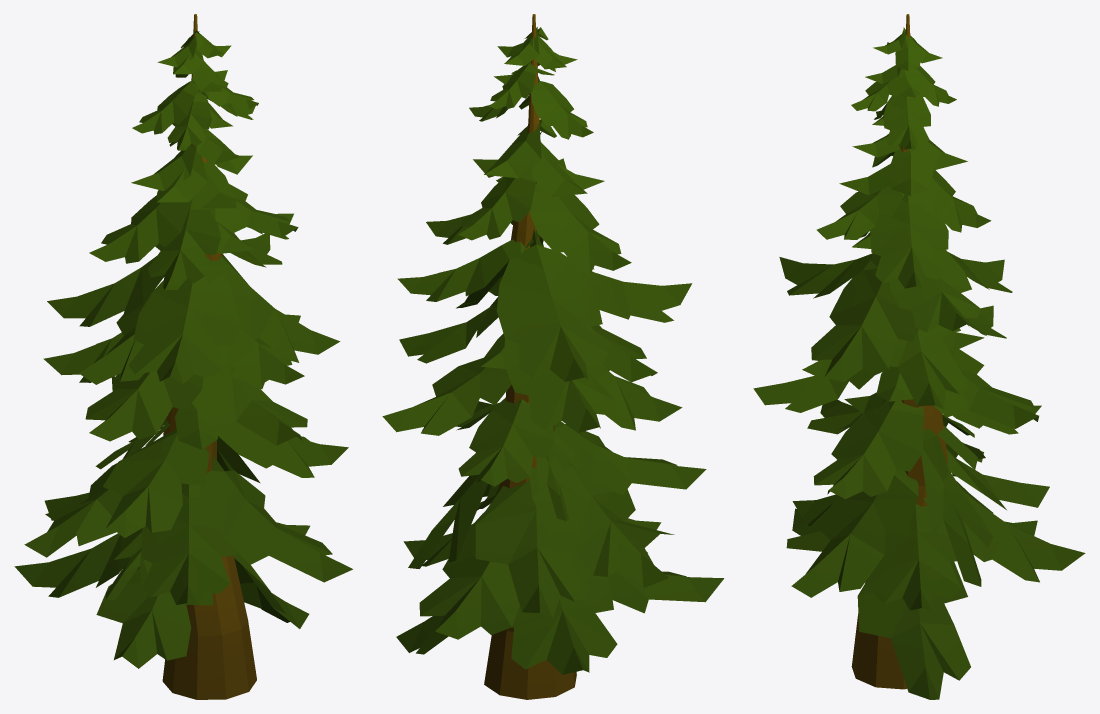
File: tree_primary.glb
The picture shows the model from 3 angles, left to right: view 1: azimuth 30°, elevation 25°; view 2: azimuth 150°, elevation 25°; view 3: azimuth 270°, elevation 25°; orthographic projection. The views are drawn at different scales.
Parts seen in each view (by area): view 1: tree_primary; view 2: tree_primary; view 3: tree_primary.
Part boxes in pixels (x1,y1,x2,y2): tree_primary: (14,14,352,699); tree_primary: (382,14,723,699); tree_primary: (753,14,1085,699).
Size of the model in its own units: 2.73 by 6.24 by 2.88.
